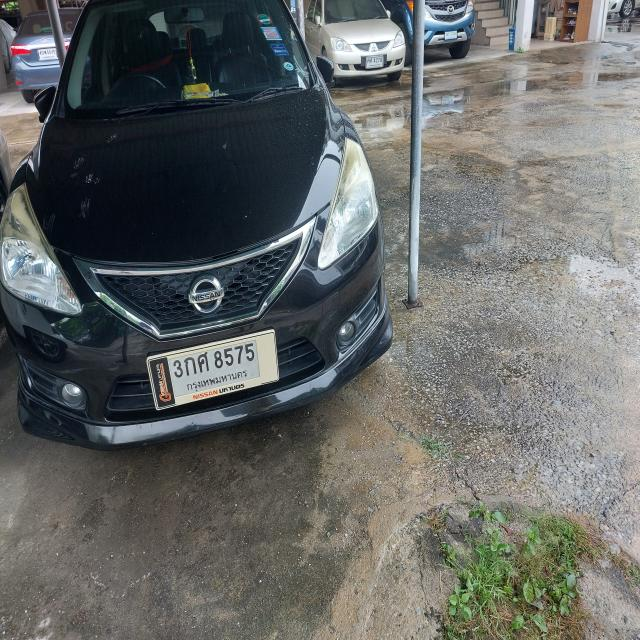license_plate: (146, 328, 281, 414)
